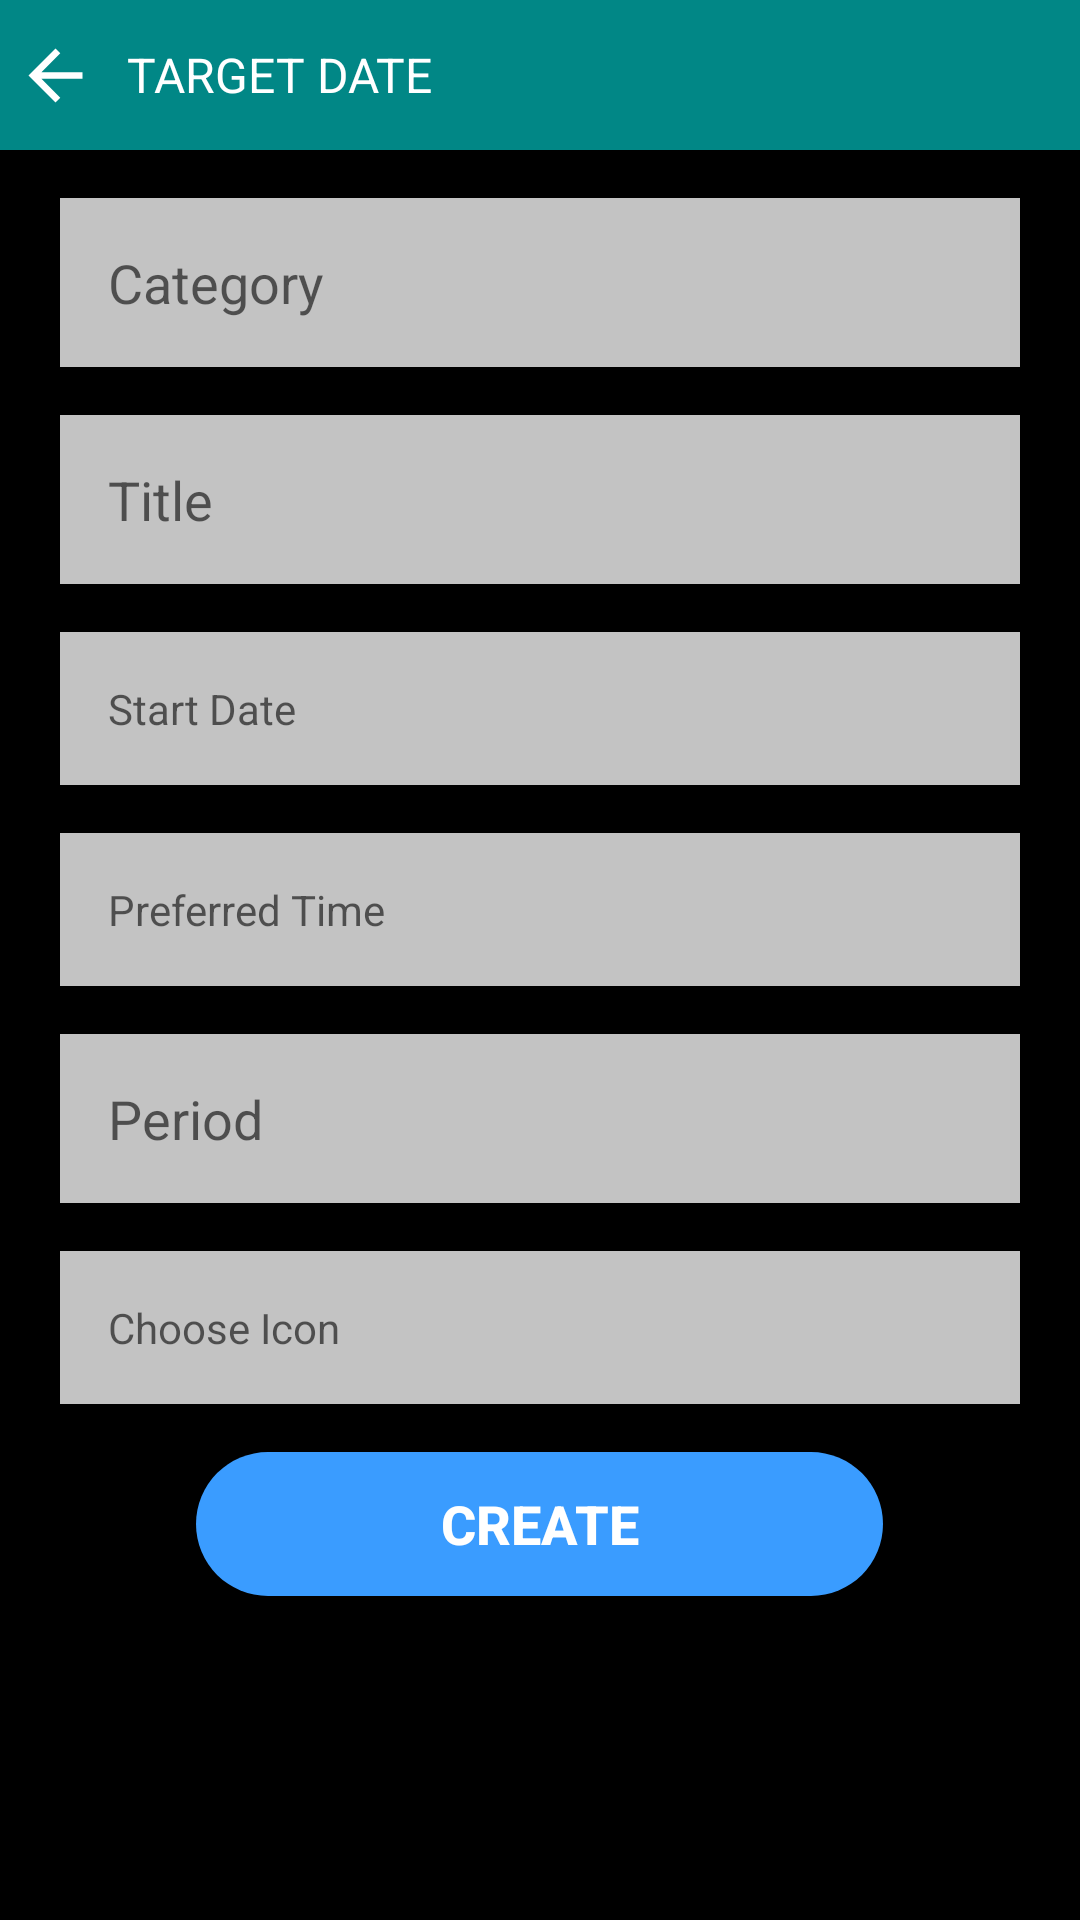

Where to tap for icons on this 1080x1920 app screen, as point (x, y):
back: point (55, 75)
